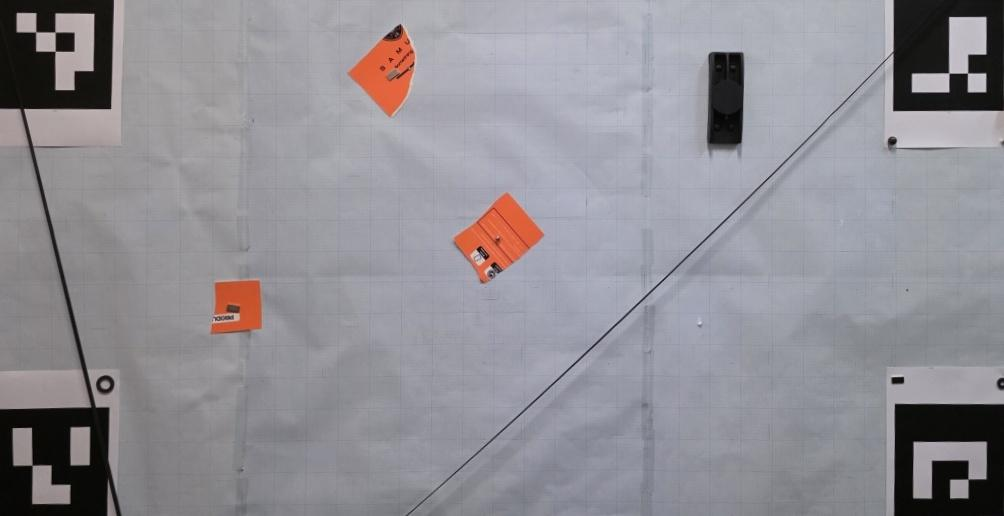obstacle: (454, 189, 544, 284), (347, 23, 417, 119), (708, 52, 744, 146), (210, 279, 263, 335)
